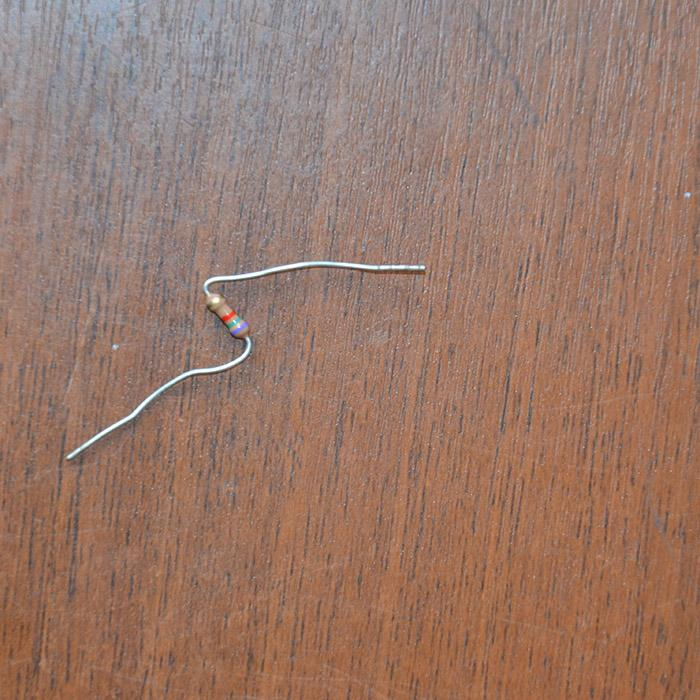resistor: (204, 291, 248, 338)
